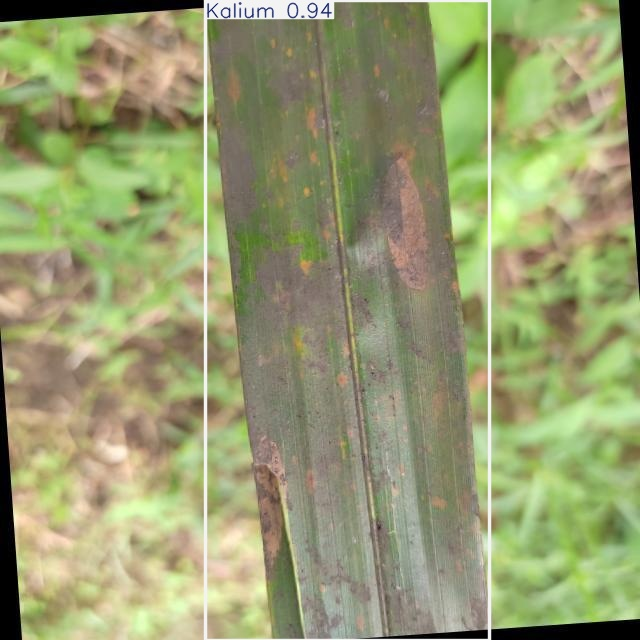Kalium: (205, 0, 489, 640)
